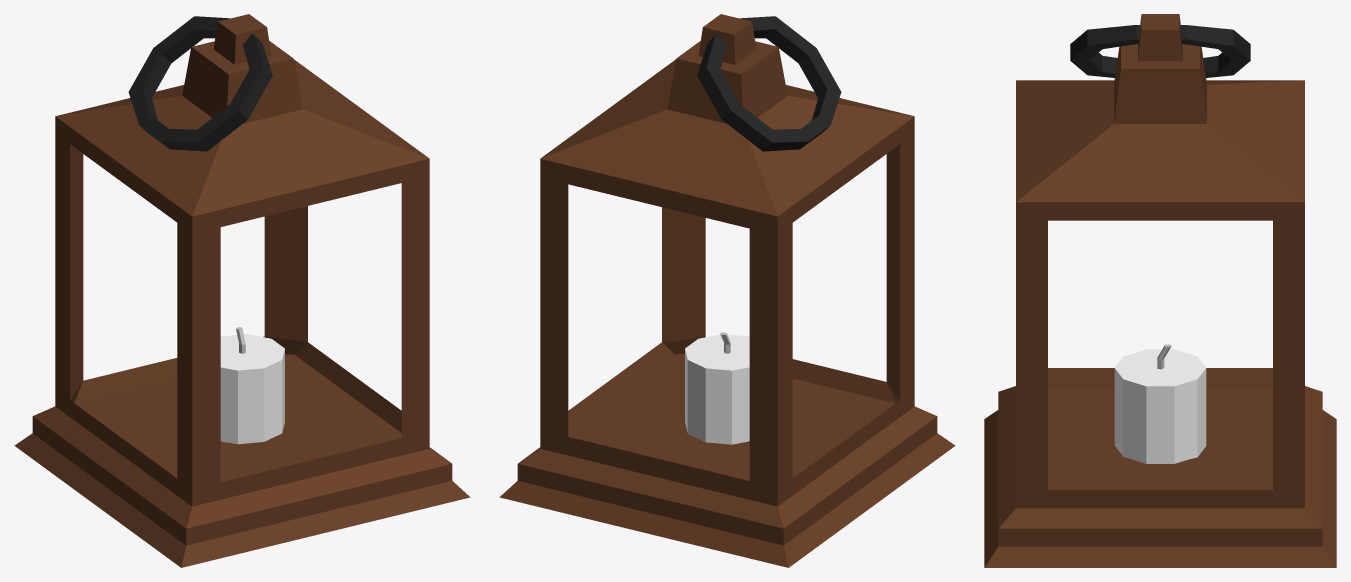
The model's file is lamp01.gltf.
3 views of the same model, side by side, from view 1: azimuth 30°, elevation 25°; view 2: azimuth 150°, elevation 25°; view 3: azimuth 270°, elevation 25° (orthographic). The views are drawn at different scales.
Visible parts, largest first — view 1: Cube; view 2: Cube; view 3: Cube.
Boxes of the visible parts, box(x1,y1,x2,y2) form: Cube: box(14, 14, 470, 567); Cube: box(499, 14, 955, 567); Cube: box(984, 14, 1336, 567).
Size of the model in its own units: 0.2008 by 0.2966 by 0.2008.
1 material, 1 textured.
